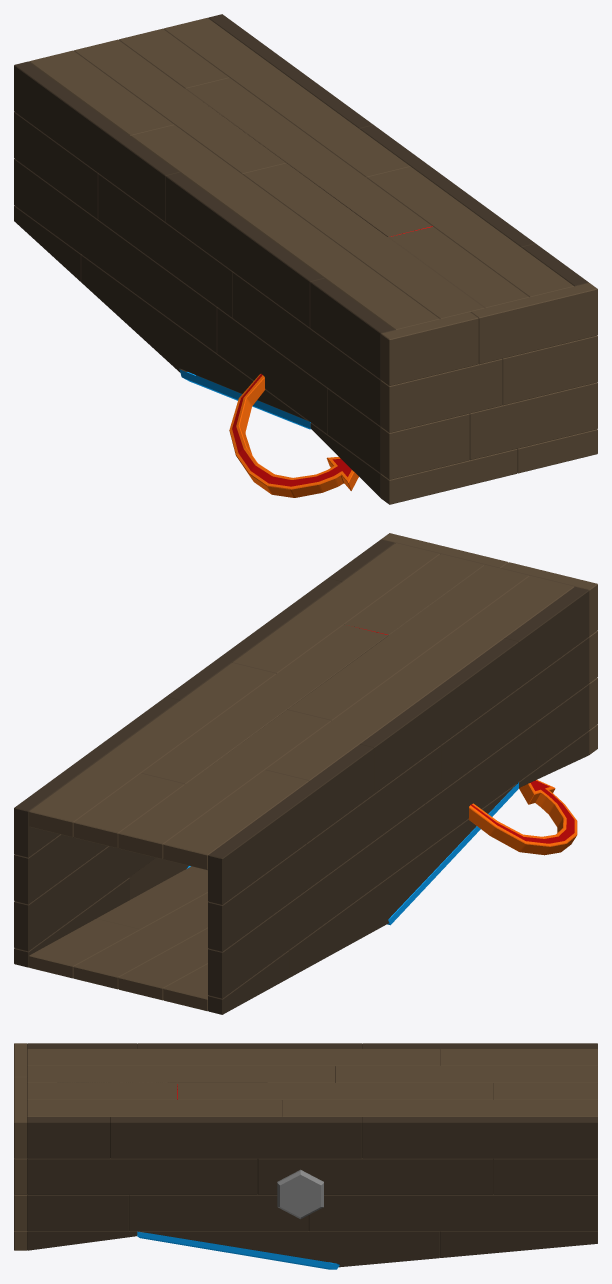
The model's file is SlotMachineCasino.glb.
3 renders of one model, top to bottom at view 1: azimuth 30°, elevation 25°; view 2: azimuth 150°, elevation 25°; view 3: azimuth 270°, elevation 25°, orthographic. The views are drawn at different scales.
Parts seen in each view (by area): view 1: SlotMachineCasino; view 2: SlotMachineCasino; view 3: SlotMachineCasino.
Boxes of the visible parts, bbox=[...] form: SlotMachineCasino: bbox=[14, 14, 597, 504]; SlotMachineCasino: bbox=[14, 533, 597, 1014]; SlotMachineCasino: bbox=[14, 1043, 597, 1269].
Size of the model in its own units: 0.9032 by 0.6308 by 2.18.
Materials: 2 (2 with a texture image).
